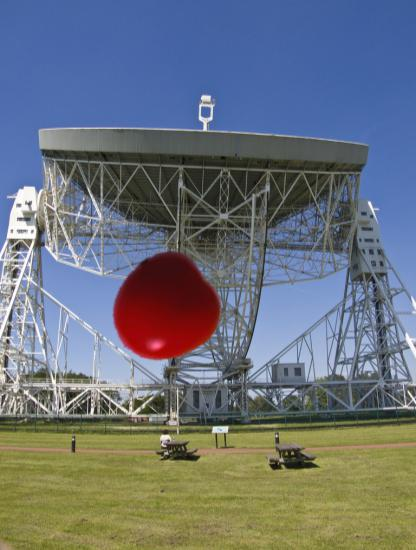Tomato: (109, 254, 219, 364)
